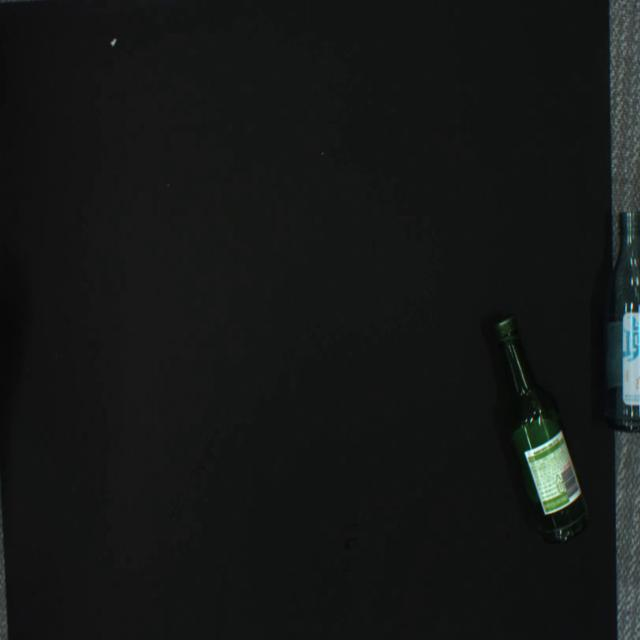soju-bottle: (493, 316, 590, 544), (602, 211, 640, 432)
